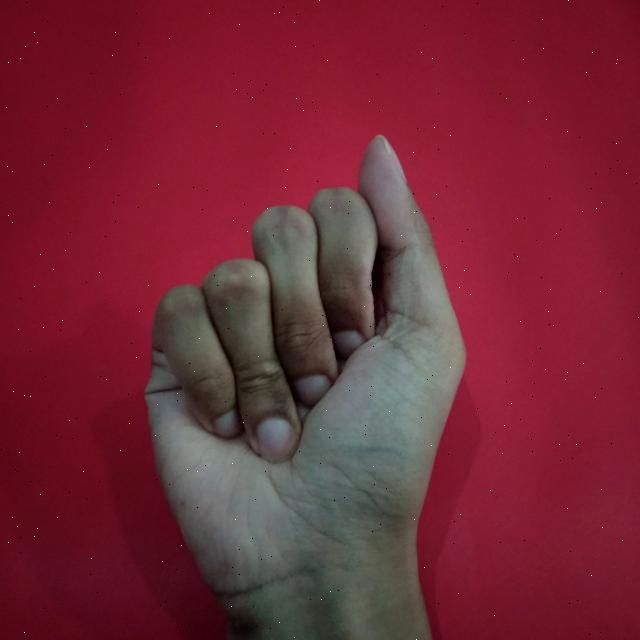A: (124, 125, 474, 640)
